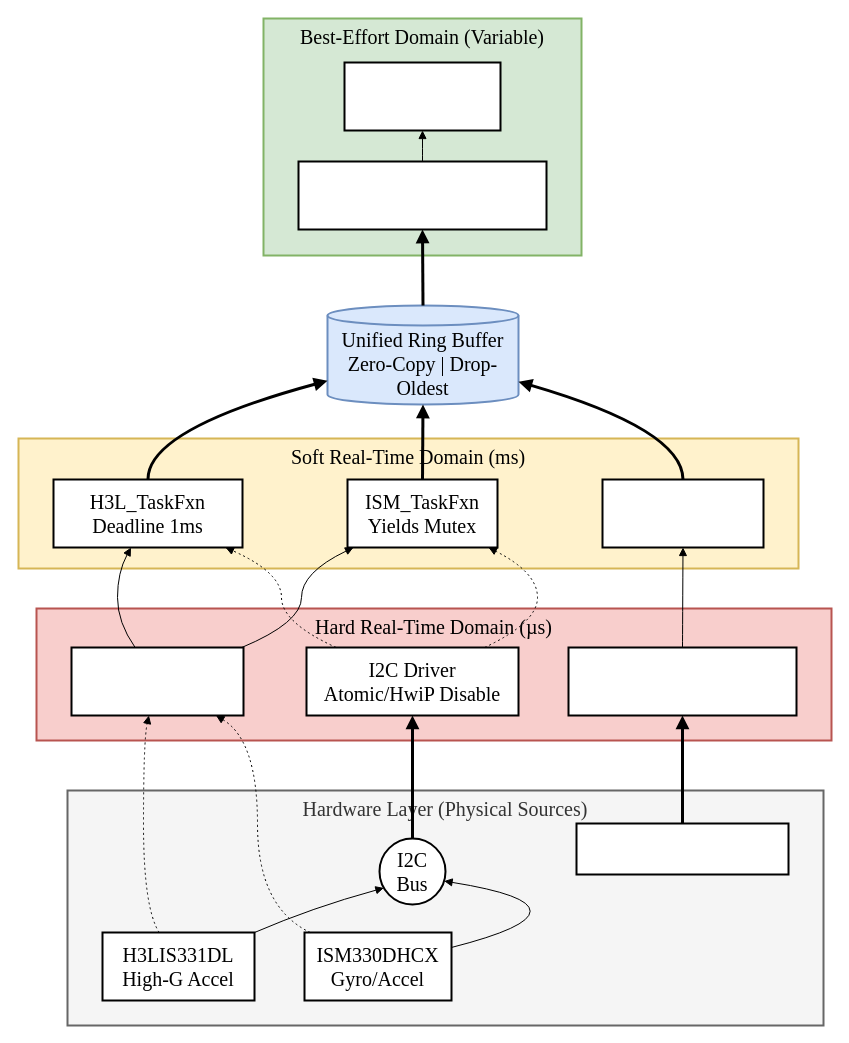
The diagram is 849 pixels wide and 1043 high, and some of its shapes have lost their labels. The shapes that lost their labels are listed below. From the top down, each one's centre as x and y in pixels, then its label:
At [422,96]: "BLE 5.0 Stack GAP/GATT".
At [422,195]: "SimplePeripheral_TaskFxn Throughput Optimized".
At [682,513]: "SC_Task_Alert Batch Ready".
At [157,681]: "GPIO Interrupts Data Ready".
At [682,681]: "ADC Driver Deterministic Sampling".
At [682,848]: "Analog Sensor Matrix".
